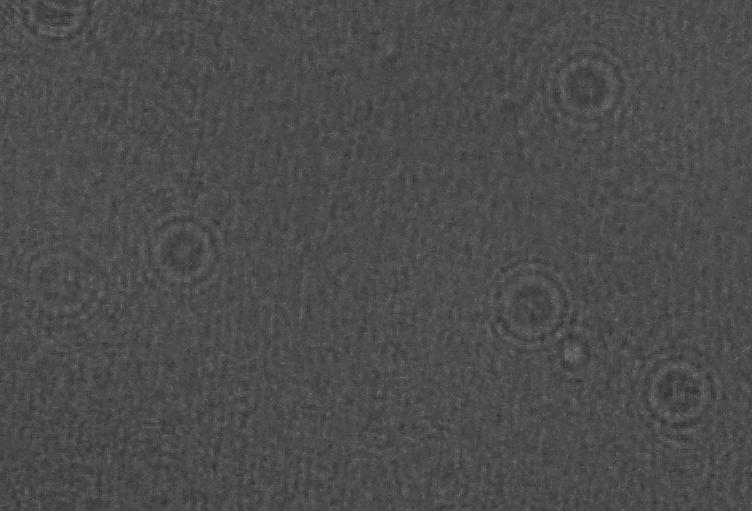bead: (463, 257, 584, 353), (621, 344, 738, 442), (530, 36, 645, 133), (133, 207, 226, 287), (11, 0, 105, 57)
